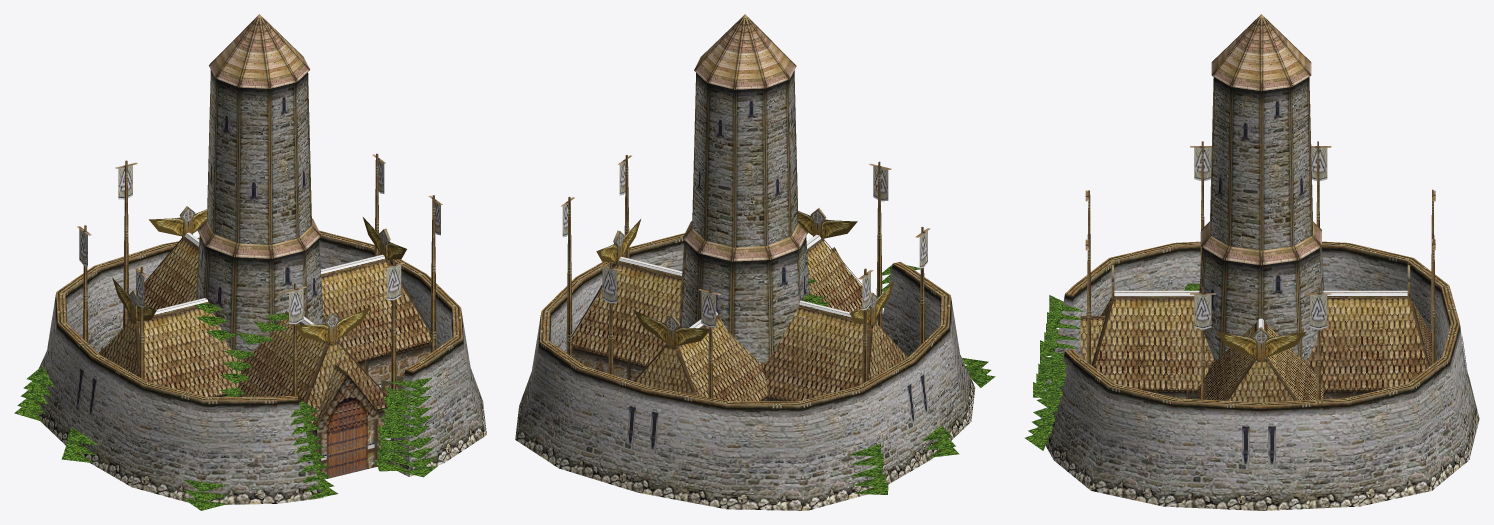
The model's file is idle.glb.
3 renders of one model, left to right at view 1: azimuth 30°, elevation 25°; view 2: azimuth 150°, elevation 25°; view 3: azimuth 270°, elevation 25°, orthographic. The views are drawn at different scales.
Visible parts, largest first — view 1: MeshRoot; view 2: MeshRoot; view 3: MeshRoot.
Boxes of the visible parts, x1,y1,x2,y2 form: MeshRoot: (14,14,486,510); MeshRoot: (515,14,995,510); MeshRoot: (1025,14,1479,510).
Bounding box in the file's own units: 16.62 × 16.18 × 16.44.
4 materials, 4 textured.
